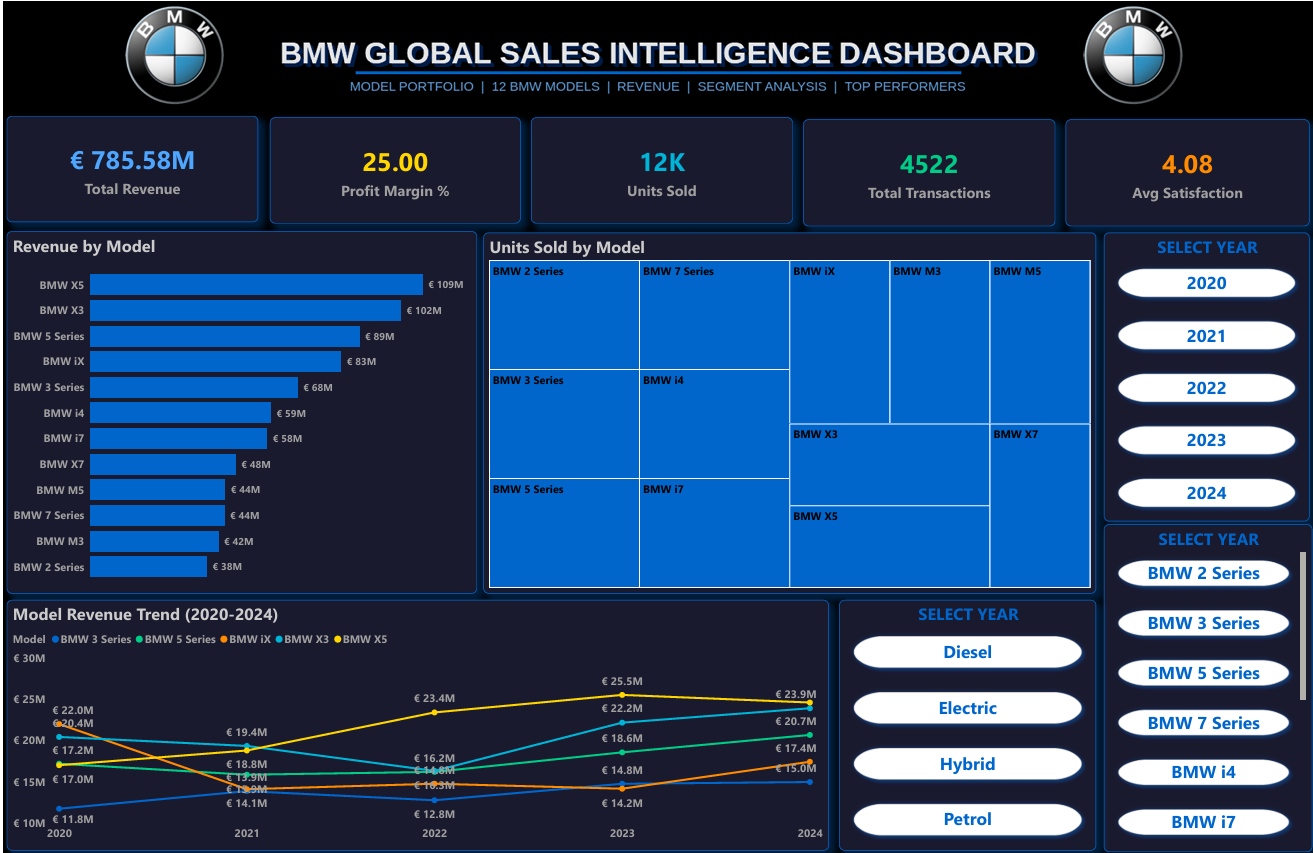

What the dashboard file says about the page in this screenshot:
{"tool":"powerbi","page":{"name":"Model Portfolio","canvas":[1920,1250],"ordinal":3},"visuals":[{"type":"card","title":"Total Revenue(EUR)","fields":{"Values":["_Measures.Total Revenue"]},"box":[4.3,168.3,368.5,155.5],"z":0},{"type":"card","title":"Total Revenue(EUR)","fields":{"Values":["Sum(_Measures.Total Units Sold)"]},"box":[773.3,170.4,383.4,155.5],"z":1},{"type":"card","title":"Total Revenue(EUR)","fields":{"Values":["_Measures.Profit Margin %"]},"box":[389.8,170.4,368.5,155.5],"z":2},{"type":"card","title":"Total Revenue(EUR)","fields":{"Values":["_Measures.Total Transactions"]},"box":[1171.6,172.5,370.7,157.6],"z":3},{"type":"card","title":"Total Revenue(EUR)","fields":{"Values":["_Measures.Avg Satisfaction"]},"box":[1557.2,172.5,357.9,157.6],"z":4},{"type":"clusteredBarChart","title":"Revenue by Model","fields":{"Category":["BMW_Sales_Phase4_Ready.Model"],"Y":["_Measures.Total Revenue"]},"box":[4.3,336.6,690.2,532.6],"z":5},{"type":"treemap","title":"Units Sold by Model","fields":{"Group":["BMW_Sales_Phase4_Ready.Model"],"Values":["Sum(_Measures.Units Sold)"]},"box":[703,338.7,898.9,530.4],"z":6},{"type":"lineChart","title":"Model Revenue Trend (2020-2024)","fields":{"Category":["DateTable.Year_Num"],"Y":["_Measures.Total Revenue"],"Series":["BMW_Sales_Phase4_Ready.Model"]},"box":[4.3,877.6,1205.7,368.5],"z":7},{"type":"advancedSlicerVisual","title":"SELECT YEAR","fields":{"Values":["DateTable.Year_Num"]},"box":[1612.6,338.7,302.5,423.9],"z":8},{"type":"advancedSlicerVisual","title":"SELECT YEAR","fields":{"Values":["BMW_Sales_Phase4_Ready.Model"]},"box":[1612.6,766.9,306.8,481.4],"z":9},{"type":"advancedSlicerVisual","title":"SELECT YEAR","fields":{"Values":["BMW_Sales_Phase4_Ready.Fuel_Type"]},"box":[1224.9,877.6,377,368.5],"z":10},{"type":"image","box":[4.3,0,1910.8,198.1],"z":11},{"type":"image","box":[168.3,0,164,157.6],"z":12},{"type":"image","box":[1574.2,0,164,157.6],"z":13}]}

Visuals, with their boxes in screenshot pixels (x1, y1, x2, y2), scaled from the page's 1920x1250 canvas onto the 1313x853 screenshot:
"Total Revenue(EUR)" card: [left=3, top=115, right=255, bottom=221]
"Total Revenue(EUR)" card: [left=529, top=116, right=791, bottom=222]
"Total Revenue(EUR)" card: [left=267, top=116, right=519, bottom=222]
"Total Revenue(EUR)" card: [left=801, top=118, right=1055, bottom=225]
"Total Revenue(EUR)" card: [left=1065, top=118, right=1310, bottom=225]
"Revenue by Model" clusteredBarChart: [left=3, top=230, right=475, bottom=593]
"Units Sold by Model" treemap: [left=481, top=231, right=1095, bottom=593]
"Model Revenue Trend (2020-2024)" lineChart: [left=3, top=599, right=827, bottom=850]
"SELECT YEAR" advancedSlicerVisual: [left=1103, top=231, right=1310, bottom=520]
"SELECT YEAR" advancedSlicerVisual: [left=1103, top=523, right=1312, bottom=852]
"SELECT YEAR" advancedSlicerVisual: [left=838, top=599, right=1095, bottom=850]
image: [left=3, top=0, right=1310, bottom=135]
image: [left=115, top=0, right=227, bottom=108]
image: [left=1077, top=0, right=1189, bottom=108]
